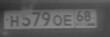license-plateSW: (3, 9, 99, 29)
